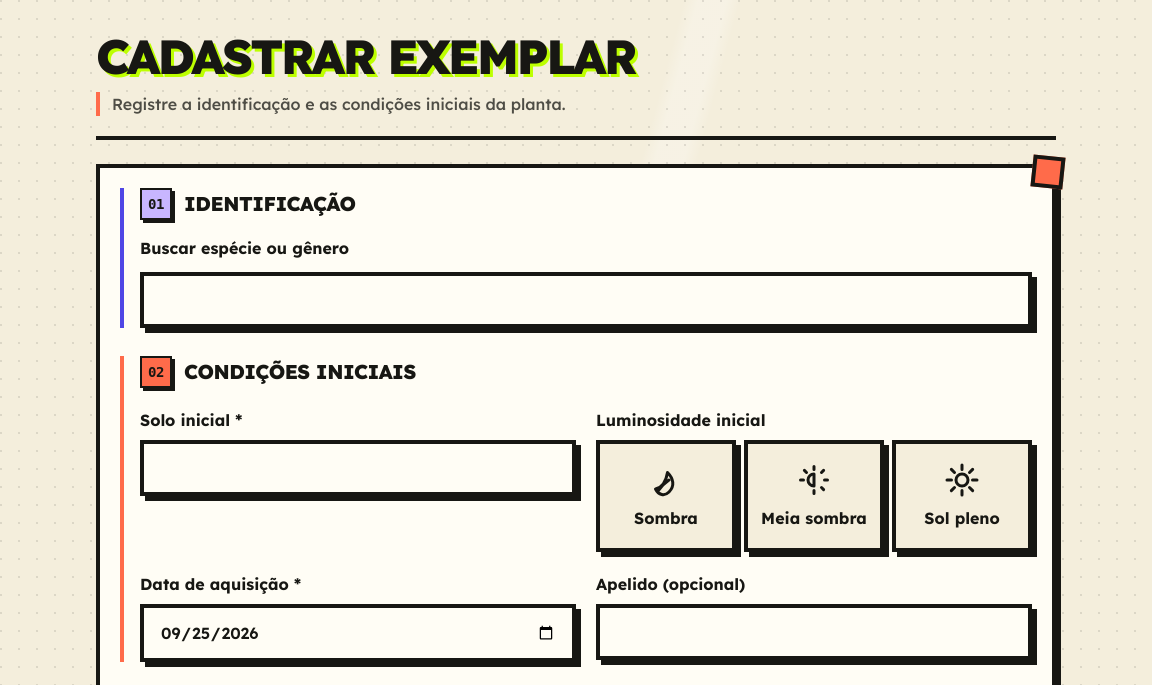
Test case: SpecimenCreatePage › creates and immediately selects a missing taxonomy
Type "Begonia sp." into the field labelled "Buscar espécie ou gênero" at (586, 300), box x1=140 y1=272 x2=1032 y2=328
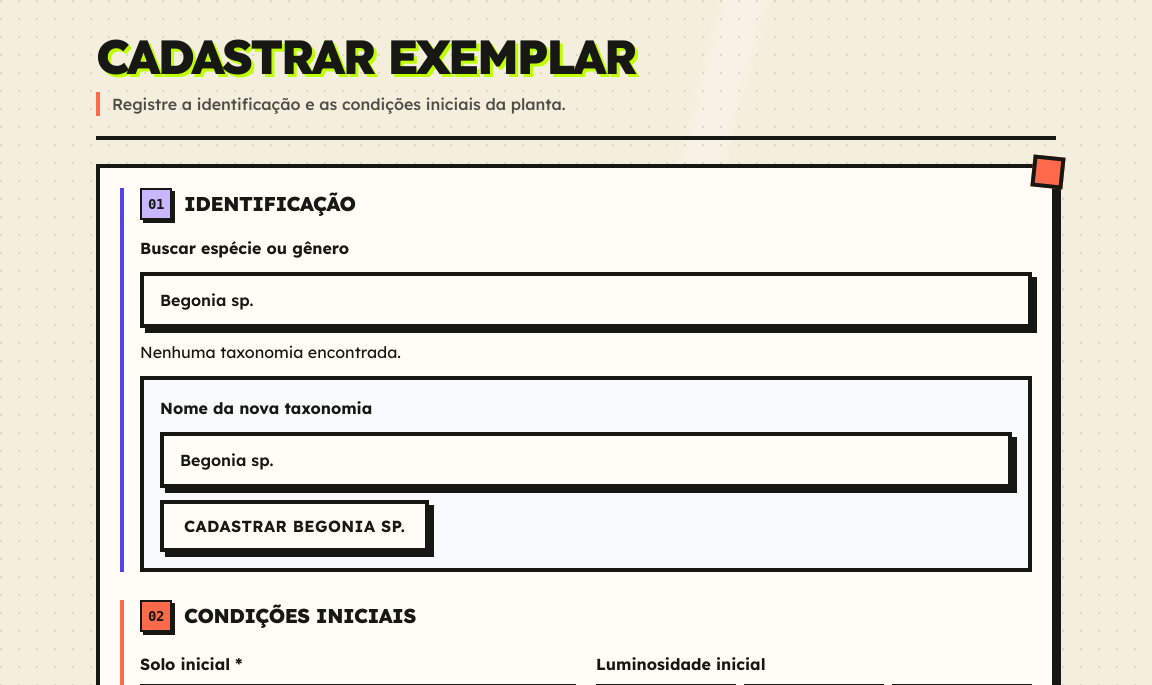
Click the button "Cadastrar Begonia sp." at (295, 526), box x1=160 y1=500 x2=429 y2=552
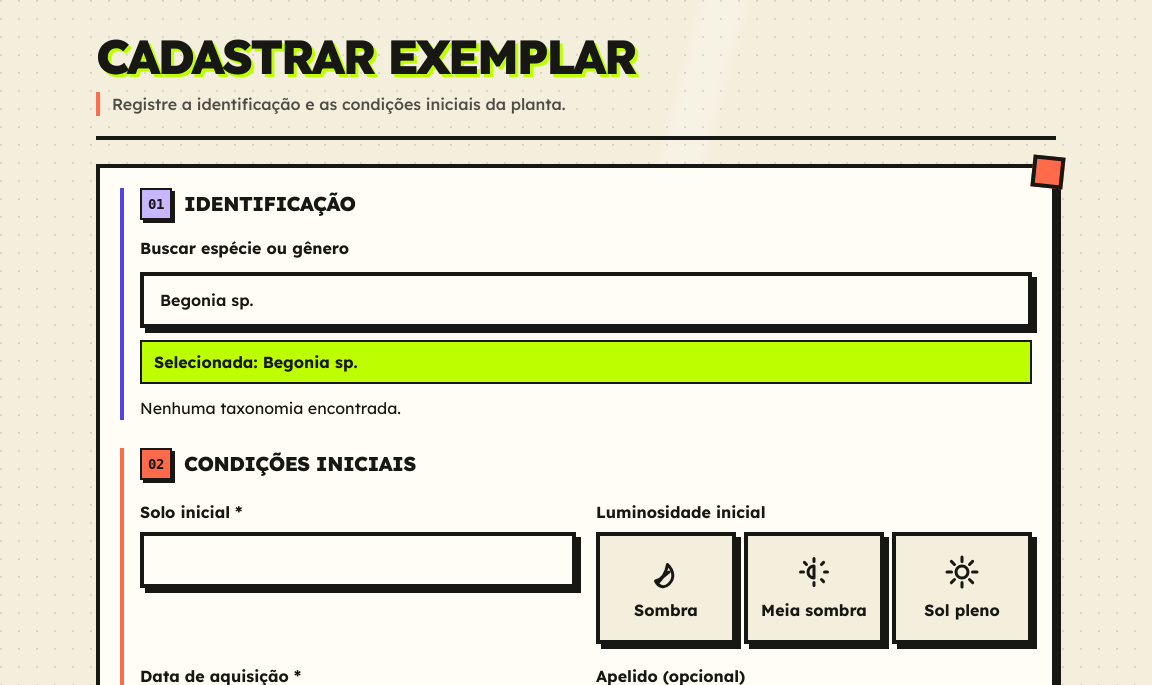
Now the text "Selecionada: Begonia sp." is shown, box x1=140 y1=340 x2=1032 y2=384
